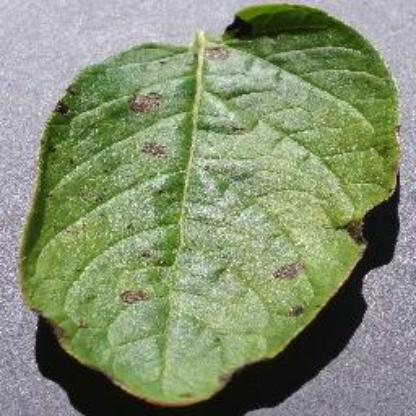Early-Blight: (21, 3, 403, 411)
